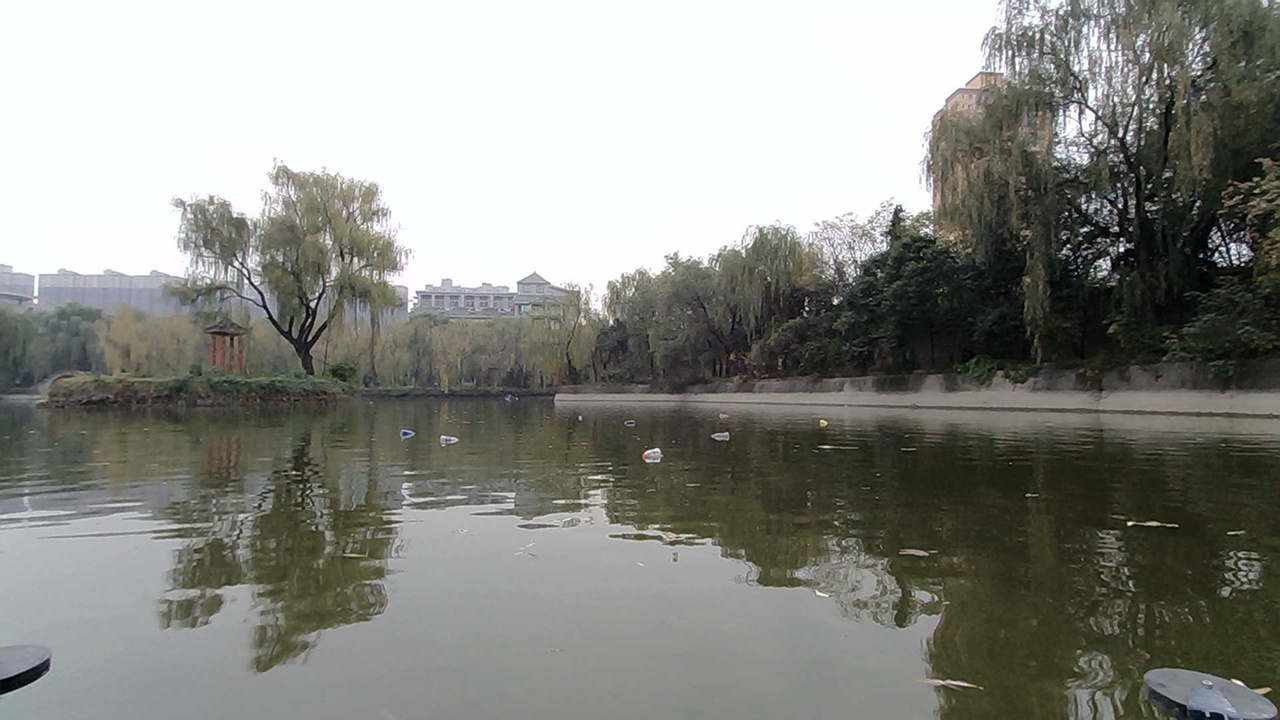bottle: (705, 417, 739, 447), (436, 425, 465, 451), (567, 404, 594, 430), (618, 405, 644, 430), (399, 424, 423, 451), (639, 446, 667, 467), (814, 413, 835, 436)
